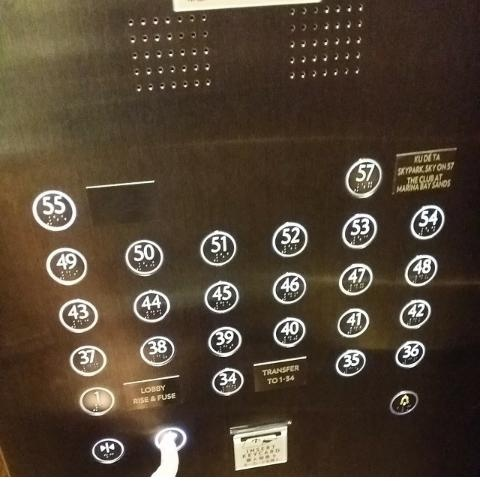1: (78, 384, 116, 417)
34: (210, 368, 243, 395)
35: (333, 350, 365, 377)
36: (394, 340, 425, 369)
37: (68, 343, 110, 376)
38: (138, 335, 175, 367)
39: (207, 325, 243, 356)
40: (272, 317, 306, 348)
41: (336, 308, 370, 338)
42: (397, 298, 432, 330)
43: (58, 298, 100, 333)
44: (133, 289, 171, 324)
45: (204, 280, 239, 314)
46: (271, 272, 307, 304)
47: (337, 262, 374, 298)
48: (403, 253, 437, 287)
49: (46, 247, 89, 286)
50: (124, 239, 164, 278)
51: (197, 230, 237, 267)
52: (271, 221, 309, 259)
53: (341, 212, 378, 250)
54: (410, 204, 446, 240)
55: (32, 189, 77, 233)
57: (346, 158, 382, 199)
alarm: (388, 388, 420, 416)
close: (91, 438, 126, 466)
